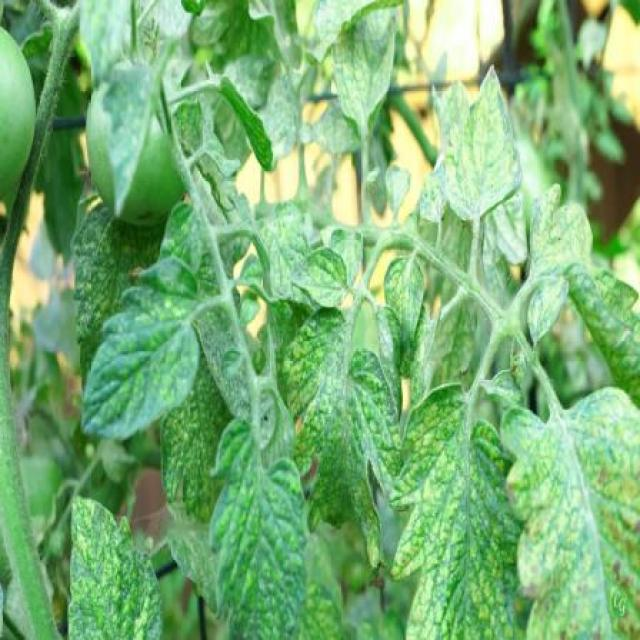Spider Mites: (500, 384, 640, 640), (389, 377, 522, 640), (278, 302, 402, 571), (530, 180, 640, 406), (205, 408, 310, 640), (82, 255, 202, 444), (65, 491, 162, 640), (445, 59, 524, 227), (329, 1, 398, 136), (248, 195, 315, 304), (383, 256, 427, 364), (287, 241, 349, 310), (526, 273, 571, 344)
